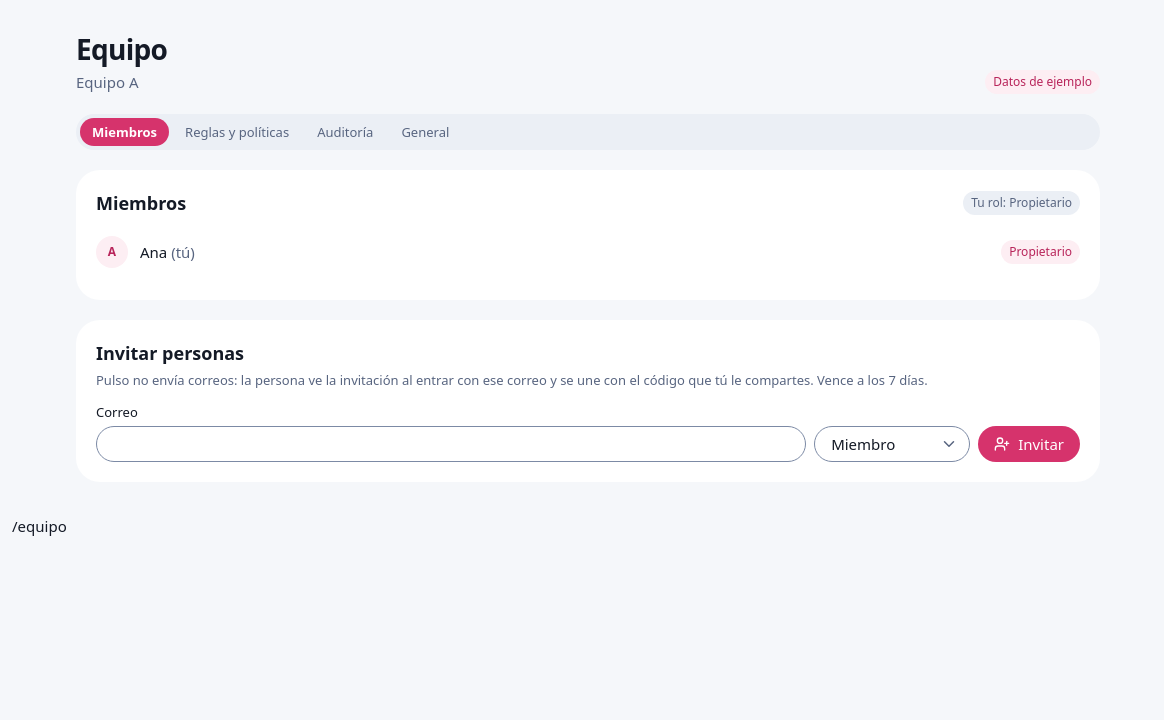
it: Auditoría (EQ-10, AC-22) › un equipo sin movimientos muestra el estado vacío
This screenshot has width=1164, height=720.
What coordinates should you click on to do the following:
click the tab "Auditoría"
I would click on:
 (345, 132)
Its box is [305,118,385,146].
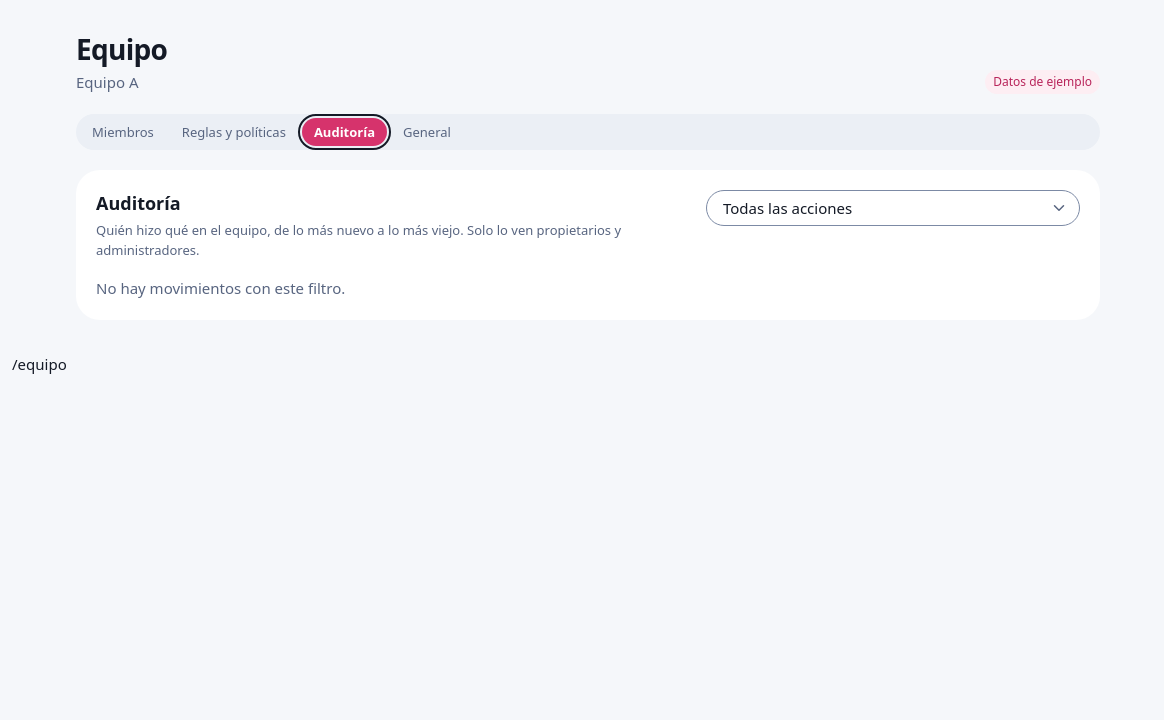
Expected: the text "No hay movimientos con este filtro." is shown, [96,278,345,298]
